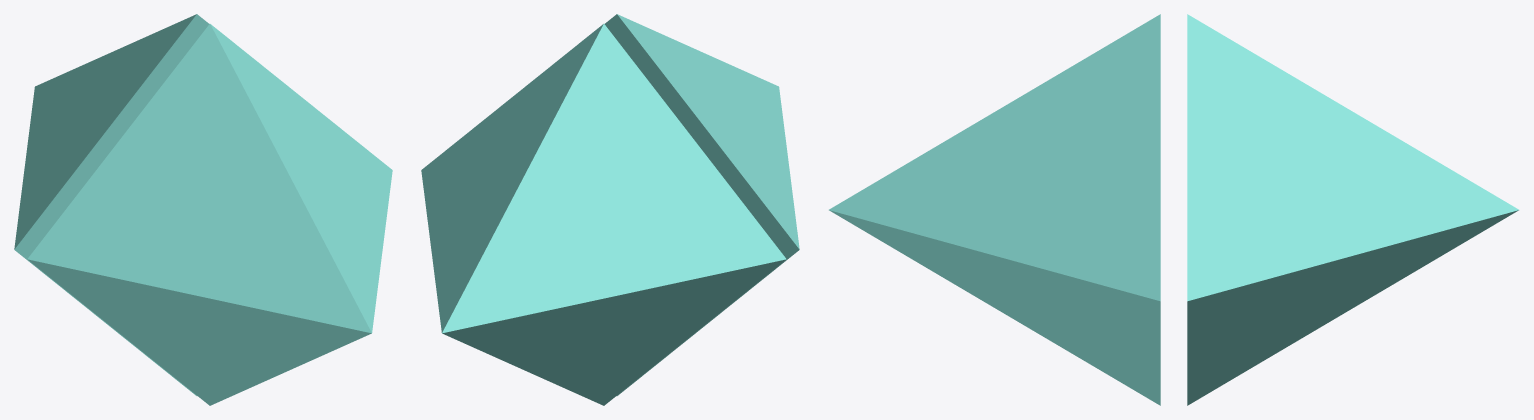
The model's file is currency.fbx.
3 renders of one model, left to right at view 1: azimuth 30°, elevation 25°; view 2: azimuth 150°, elevation 25°; view 3: azimuth 270°, elevation 25°, orthographic. The views are drawn at different scales.
Parts seen in each view (by area): view 1: Ethereum; view 2: Ethereum; view 3: Ethereum.
Boxes of the visible parts, bbox=[...] form: Ethereum: bbox=[14, 14, 392, 405]; Ethereum: bbox=[421, 14, 799, 405]; Ethereum: bbox=[829, 14, 1518, 405].
Bounding box in the file's own units: 320 × 200 × 200.
